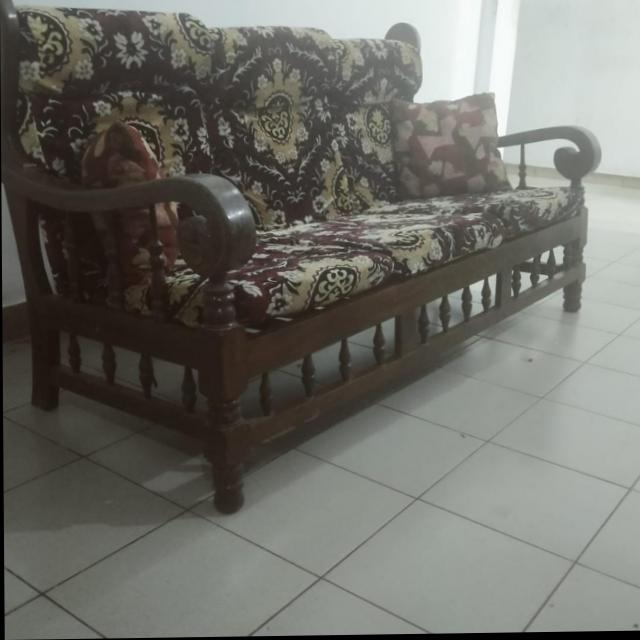Sofa: (0, 0, 603, 518)
